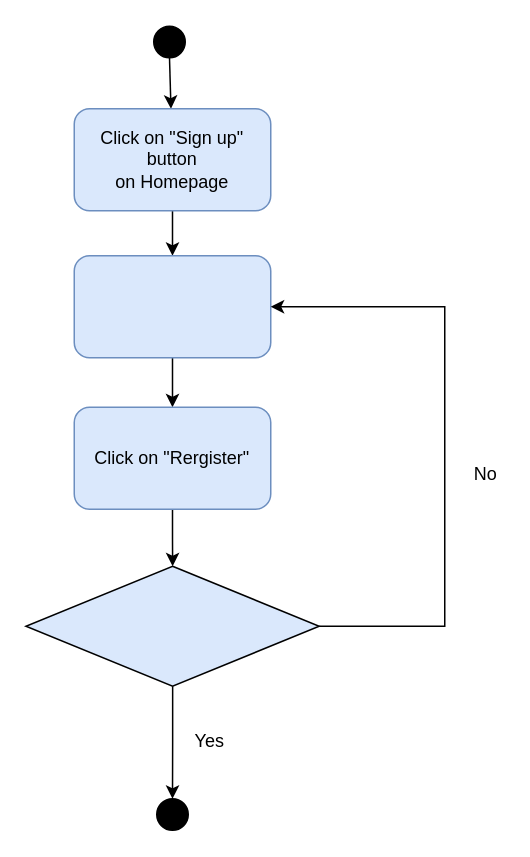
This 530x857 diagram has some shape labels left out. Each missing label, with the centre of its shape:
Enter personal information: (172,306)
Information in correct format ?: (171,625)
